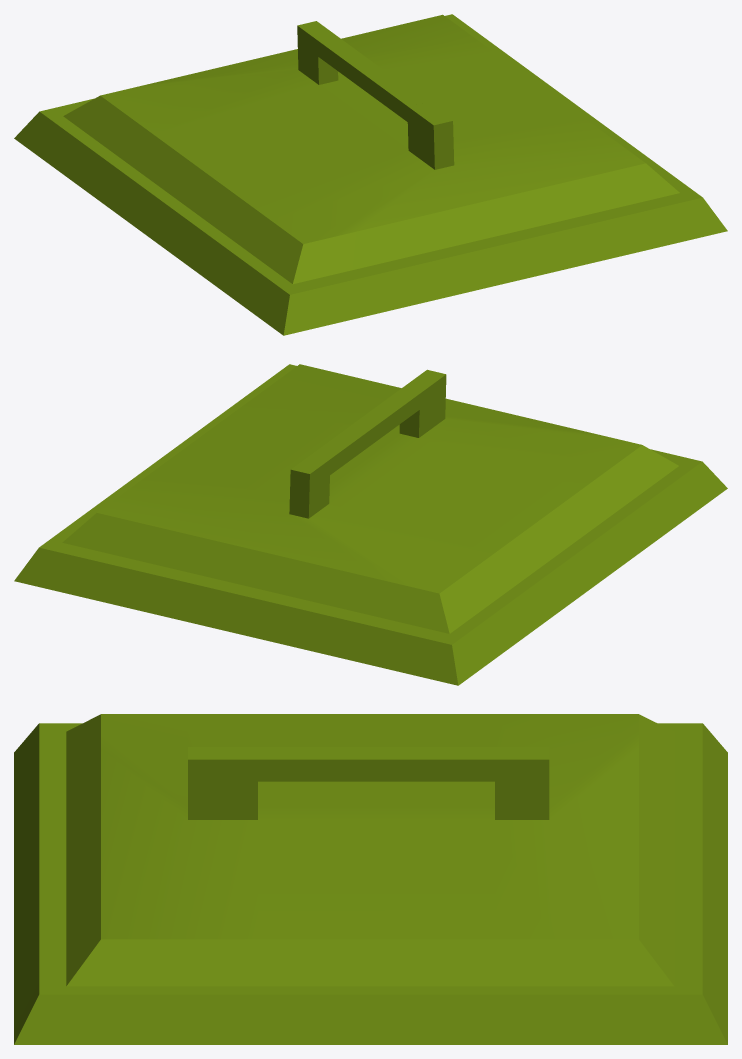
File: trashlid.FBX
3 renders of one model, top to bottom at view 1: azimuth 30°, elevation 25°; view 2: azimuth 150°, elevation 25°; view 3: azimuth 270°, elevation 25°, orthographic. The views are drawn at different scales.
Parts seen in each view (by area): view 1: Box003; view 2: Box003; view 3: Box003.
Part boxes in pixels (x1,y1,x2,y2): Box003: (14,14,727,335); Box003: (14,364,727,685); Box003: (14,714,727,1044).
Bounding box in the file's own units: 37.78 × 9.22 × 39.7.
